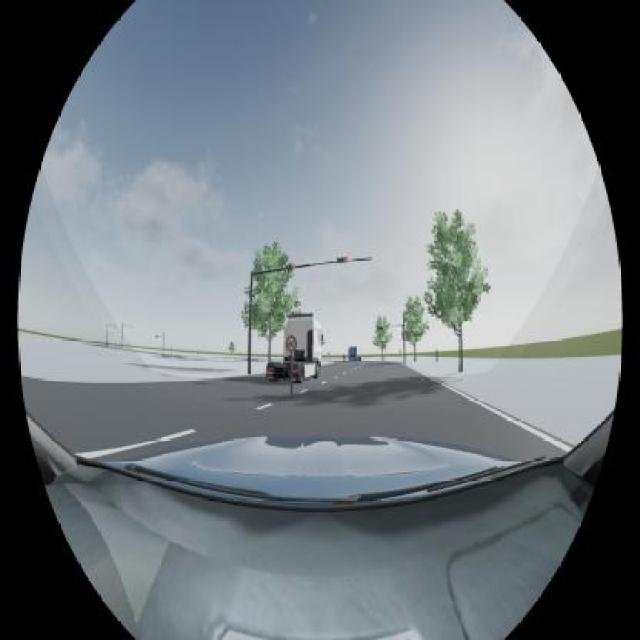forb_speed_over_60: (286, 335, 297, 351)
